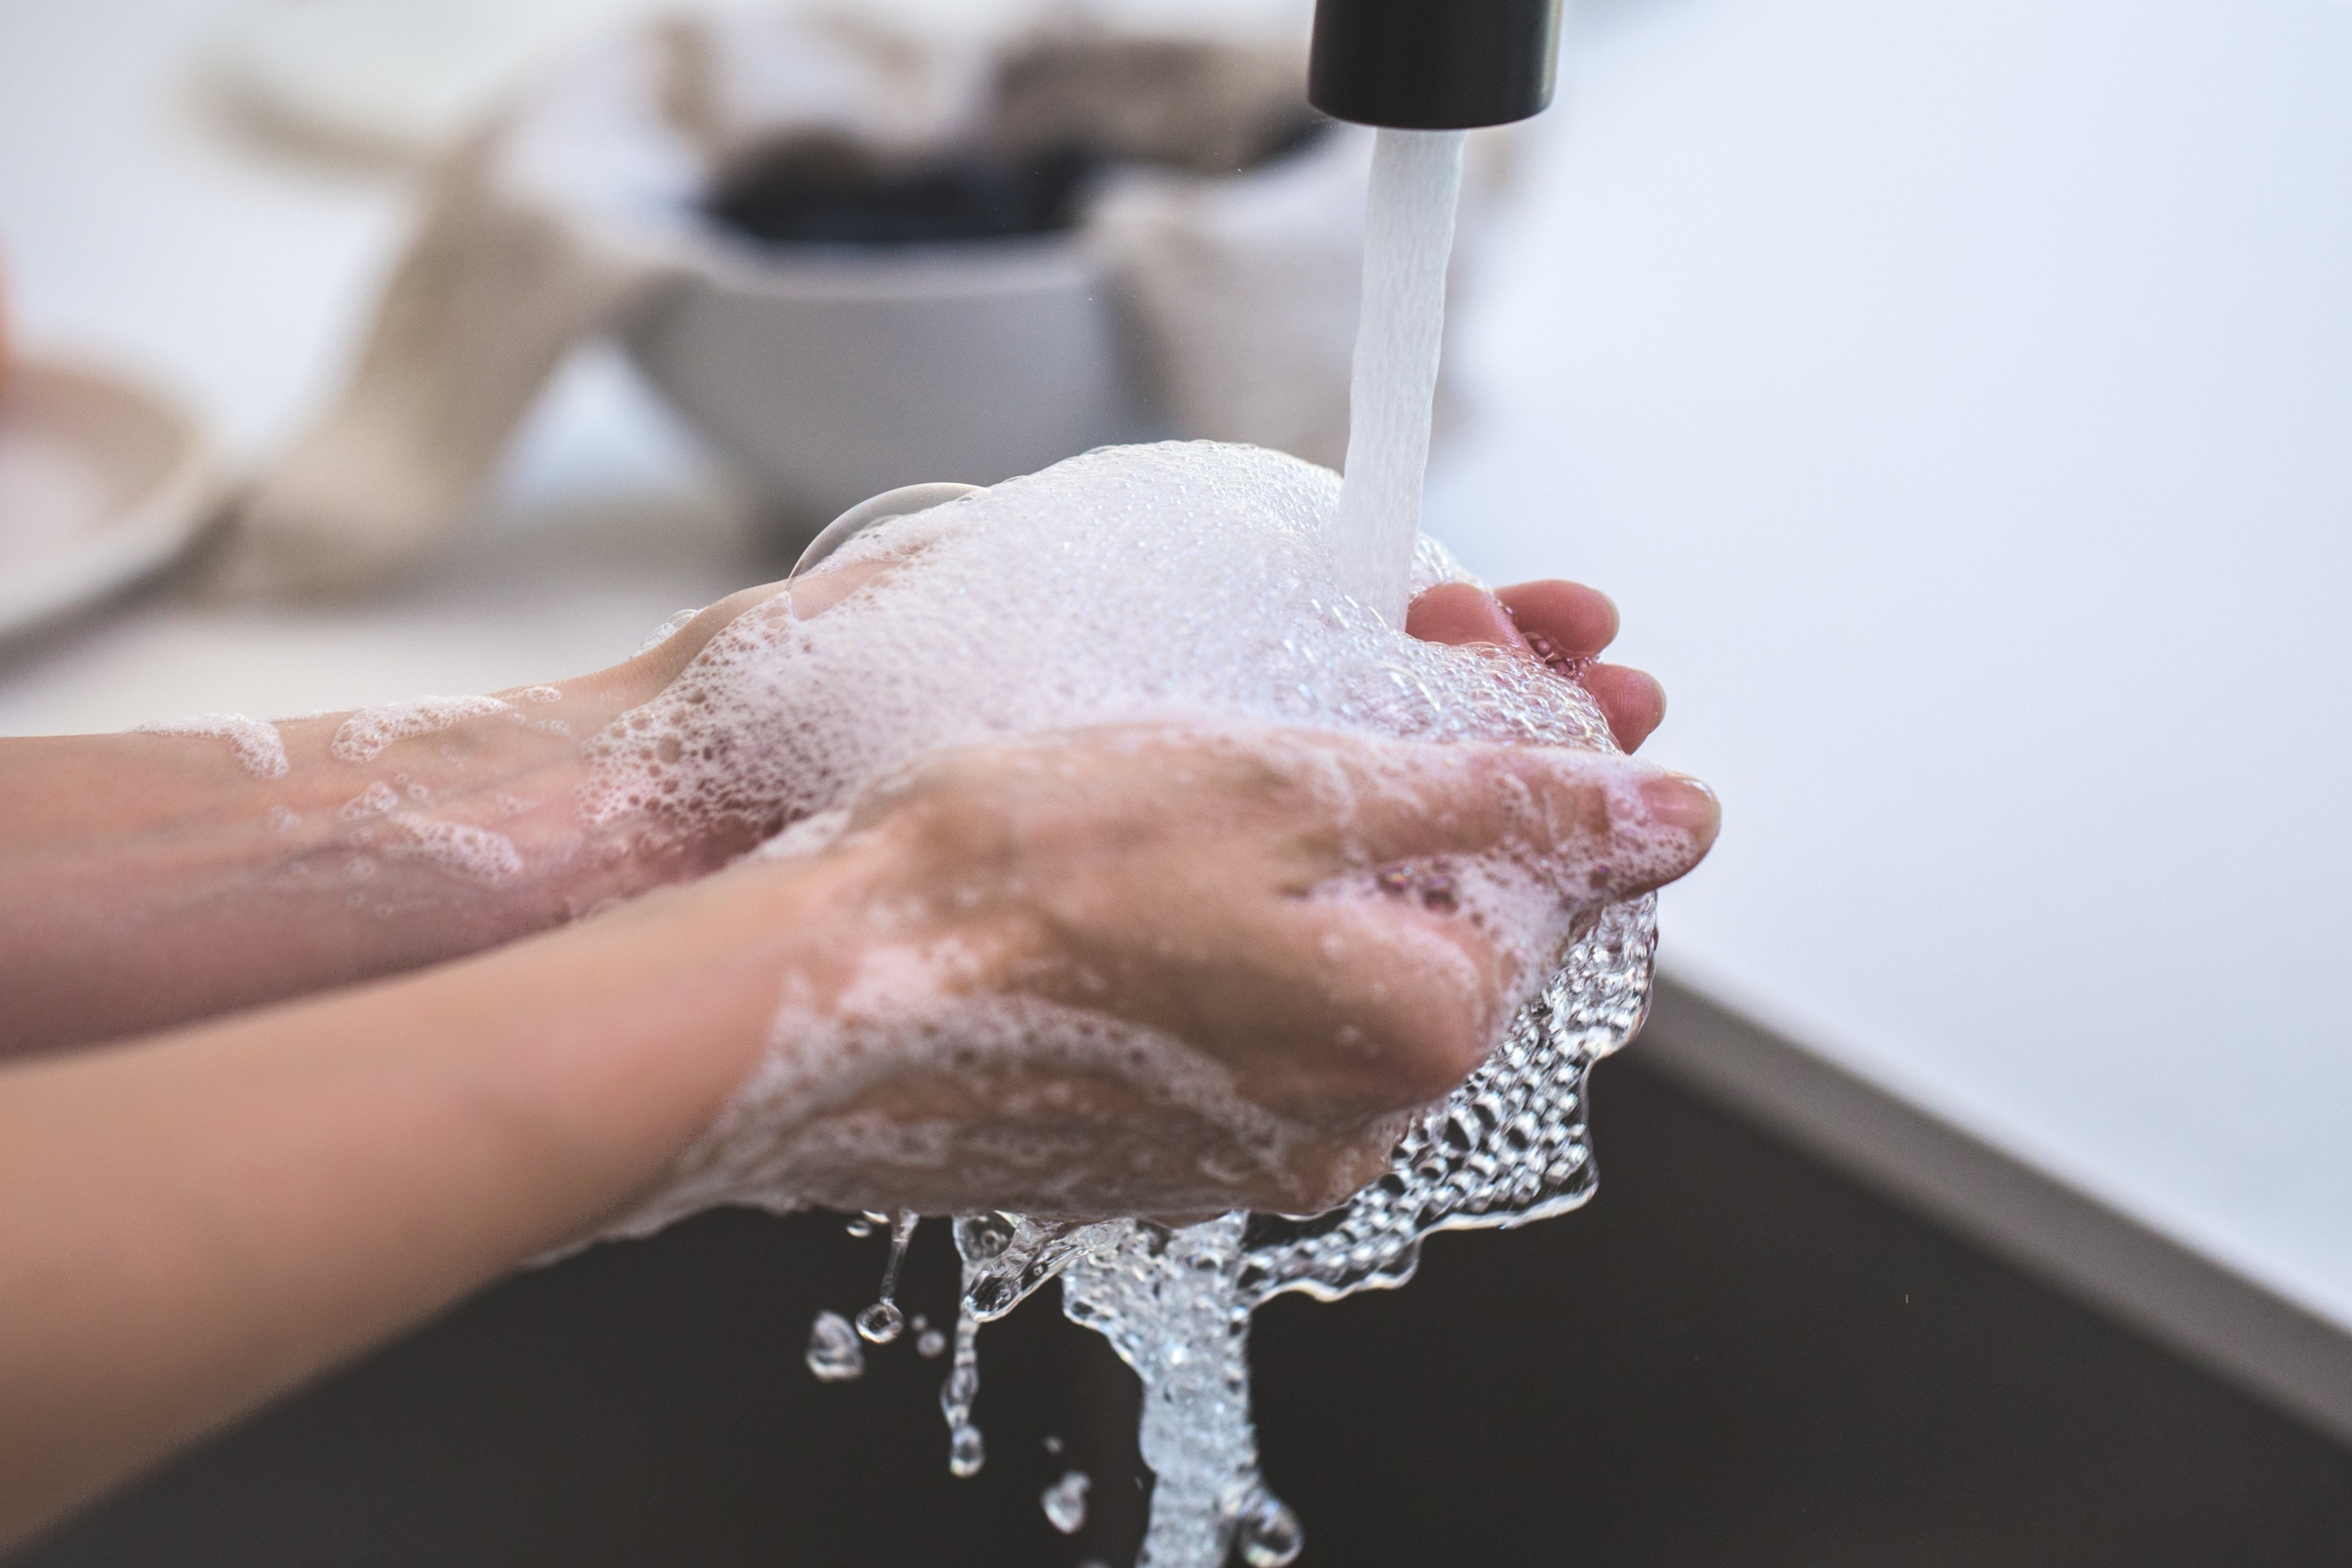washing hand: (381, 0, 2133, 1321)
